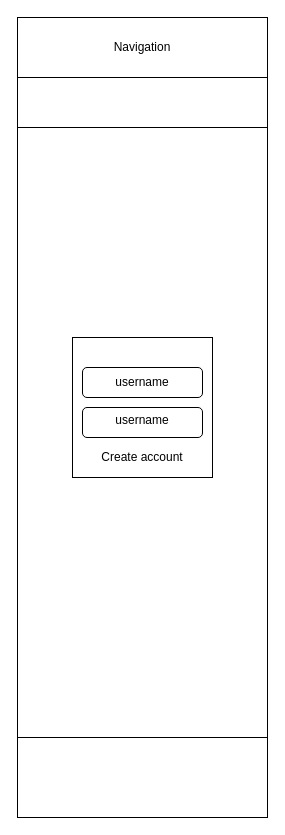
This 285x835 diagram has some shape labels left out. The shapes that lost their labels are listed below. From the top down, each one's centre as x and y in pixels, then its label:
At pixel 142 102: "Logo".
At pixel 142 777: "Footer".
